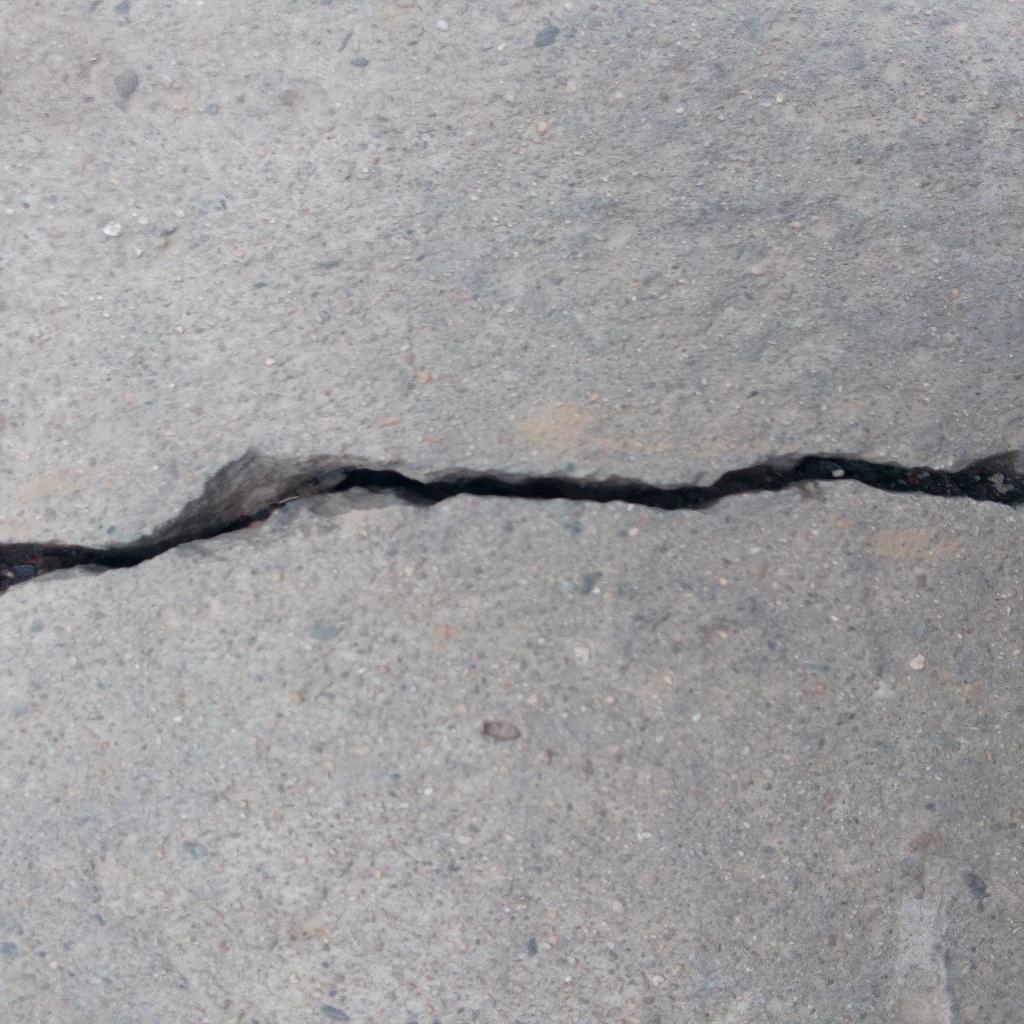Crack: (1, 446, 1024, 598)
